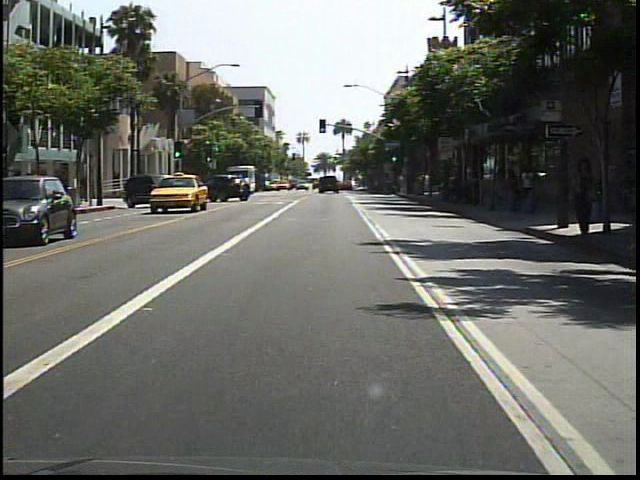person: (566, 155, 598, 243), (615, 163, 638, 246), (518, 165, 538, 213)
